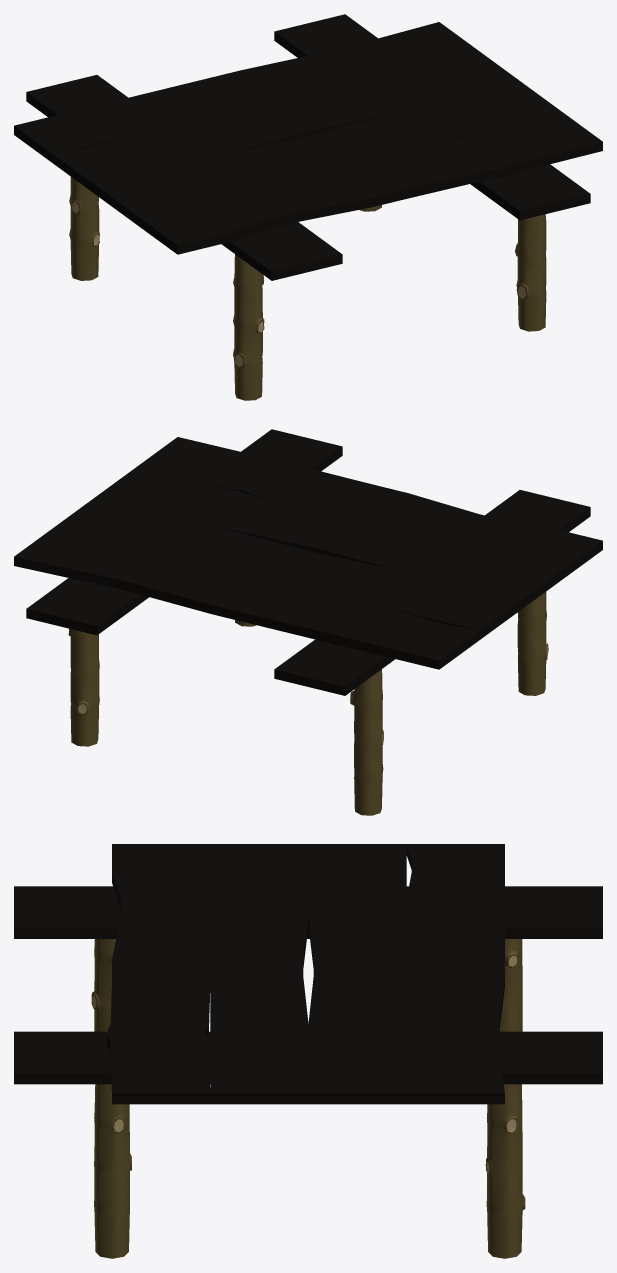
Rendered from Platform_Build_V3.fbx.
3 views of the same model, one above another, from view 1: azimuth 30°, elevation 25°; view 2: azimuth 150°, elevation 25°; view 3: azimuth 270°, elevation 25° (orthographic). The views are drawn at different scales.
Parts seen in each view (by area): view 1: pCube11; view 2: pCube11; view 3: pCube11.
Boxes of the visible parts, x1=… form: pCube11: x1=14, y1=14, x2=602, y2=400; pCube11: x1=14, y1=429, x2=602, y2=815; pCube11: x1=14, y1=844, x2=602, y2=1258.
Size of the model in its own units: 6 by 2.25 by 6.
